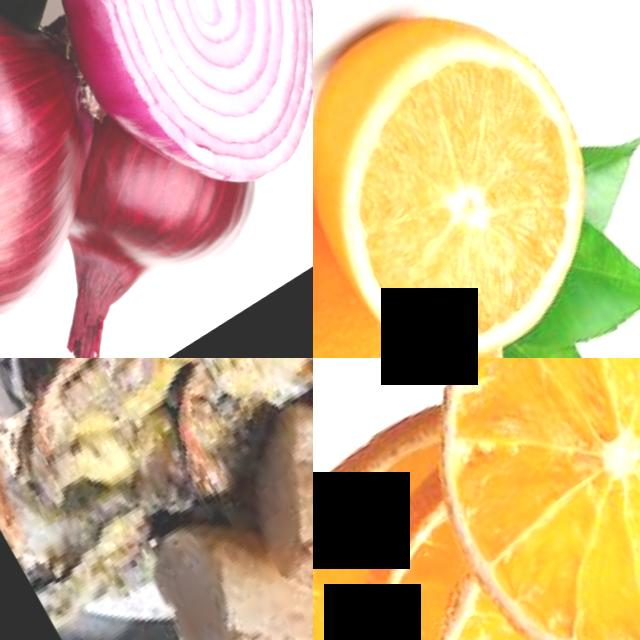onion: (0, 0, 313, 256), (51, 138, 246, 341), (0, 0, 108, 358)
orange: (370, 358, 640, 640), (313, 141, 462, 358), (630, 242, 640, 272)
oysters: (0, 358, 213, 484), (133, 358, 313, 447)
